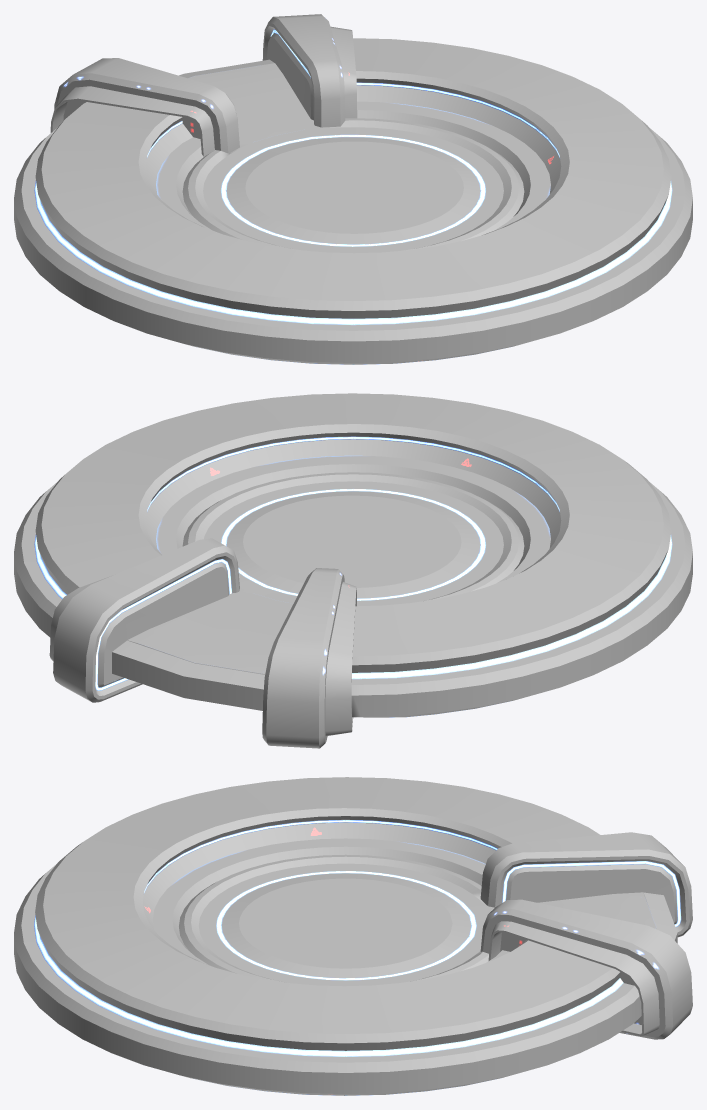
File: MovingPlatform.fbx
3 renders of one model, top to bottom at view 1: azimuth 30°, elevation 25°; view 2: azimuth 150°, elevation 25°; view 3: azimuth 270°, elevation 25°, orthographic. The views are drawn at different scales.
Visible parts, largest first — view 1: MovingPlatform; view 2: MovingPlatform; view 3: MovingPlatform.
Part boxes in pixels (x1=…): MovingPlatform: x1=14, y1=14, x2=692, y2=364; MovingPlatform: x1=14, y1=393, x2=692, y2=748; MovingPlatform: x1=14, y1=777, x2=692, y2=1095.
Bounding box in the file's own units: 4.63 × 1.03 × 4.74.
